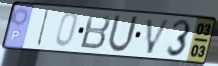0: (53, 10, 80, 50)
3: (165, 18, 193, 59)
B: (78, 12, 113, 52)
I: (35, 8, 51, 48)
U: (105, 13, 140, 55)
V: (145, 17, 172, 56)
